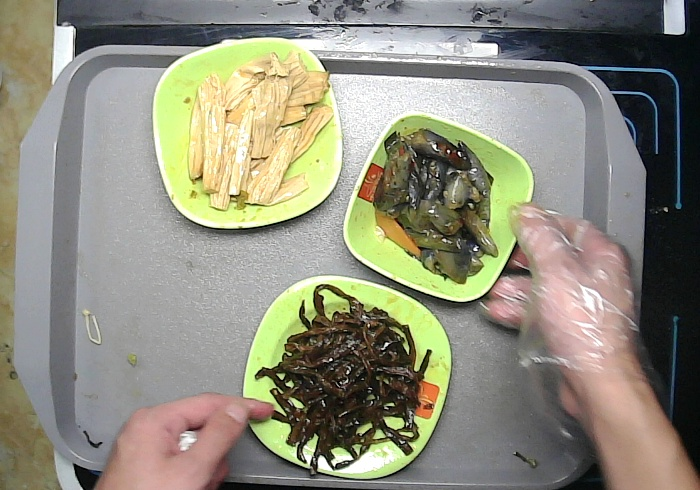SHKJ-Lv_Se_Cai_Die: (150, 36, 343, 232)
SHKJ-Lv_Se_Si_Fang_Cai_Die: (242, 274, 453, 480)
SHKJ-Lv_Se_Xiao_Fang_Die: (342, 109, 535, 303)
